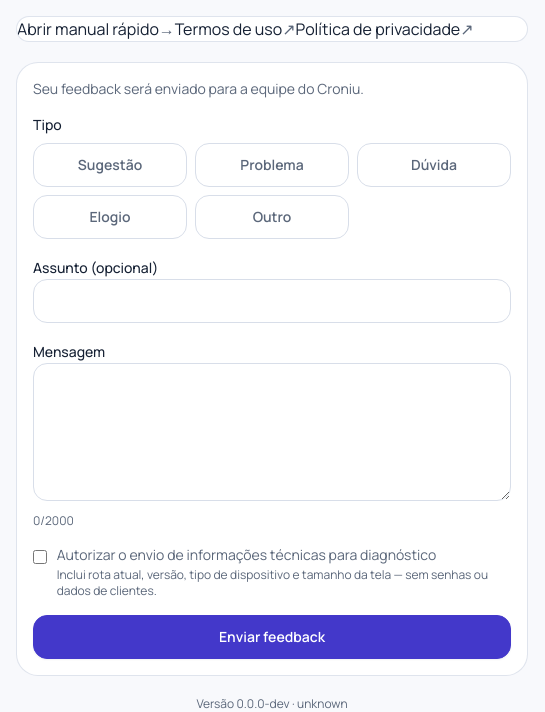
Test: Help feedback form › requires category and message length
(page scrolled)
Click the button "Enviar feedback" at (272, 637), box 33,615 -> 511,659
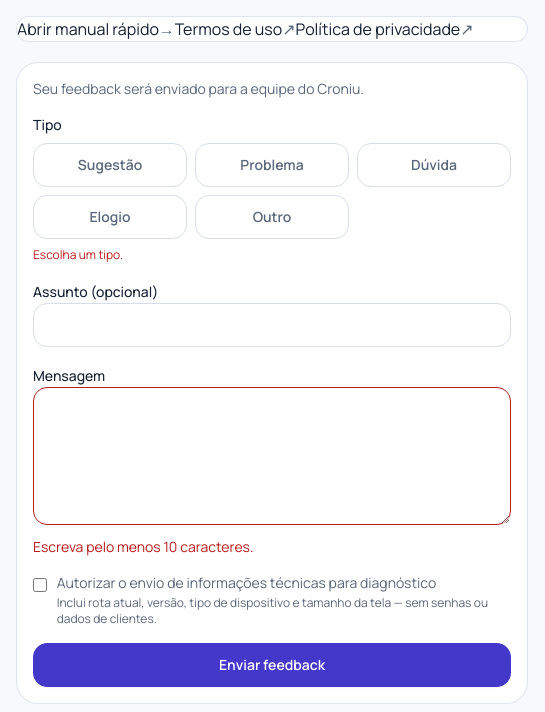
Now the text "Escolha um tipo." is shown, box 33,246 -> 123,263
